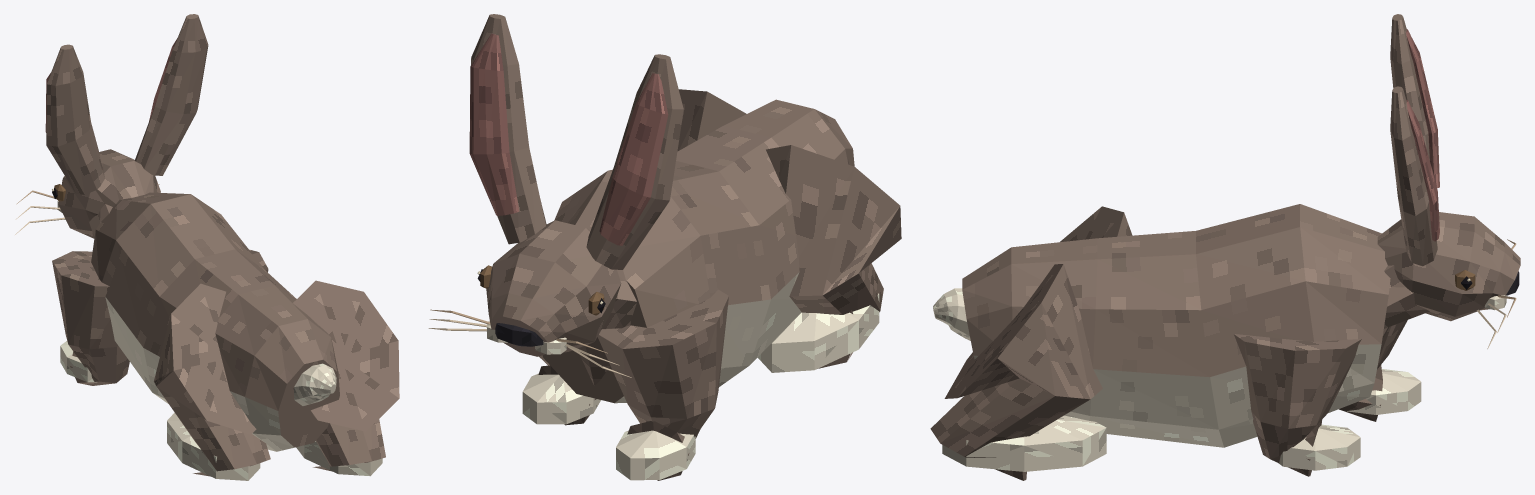
Rendered from mon_hare.glb.
The picture shows the model from 3 angles, left to right: view 1: azimuth 30°, elevation 25°; view 2: azimuth 150°, elevation 25°; view 3: azimuth 270°, elevation 25°; orthographic projection. The views are drawn at different scales.
Visible parts, largest first — view 1: closed_body; view 2: closed_body; view 3: closed_body.
Part boxes in pixels (<box>): closed_body: <box>15,14,399,480</box>; closed_body: <box>428,14,901,480</box>; closed_body: <box>930,14,1520,480</box>.
Bounding box in the file's own units: 0.2847 × 0.4605 × 0.6175.
Materials: 1 (1 with a texture image).
